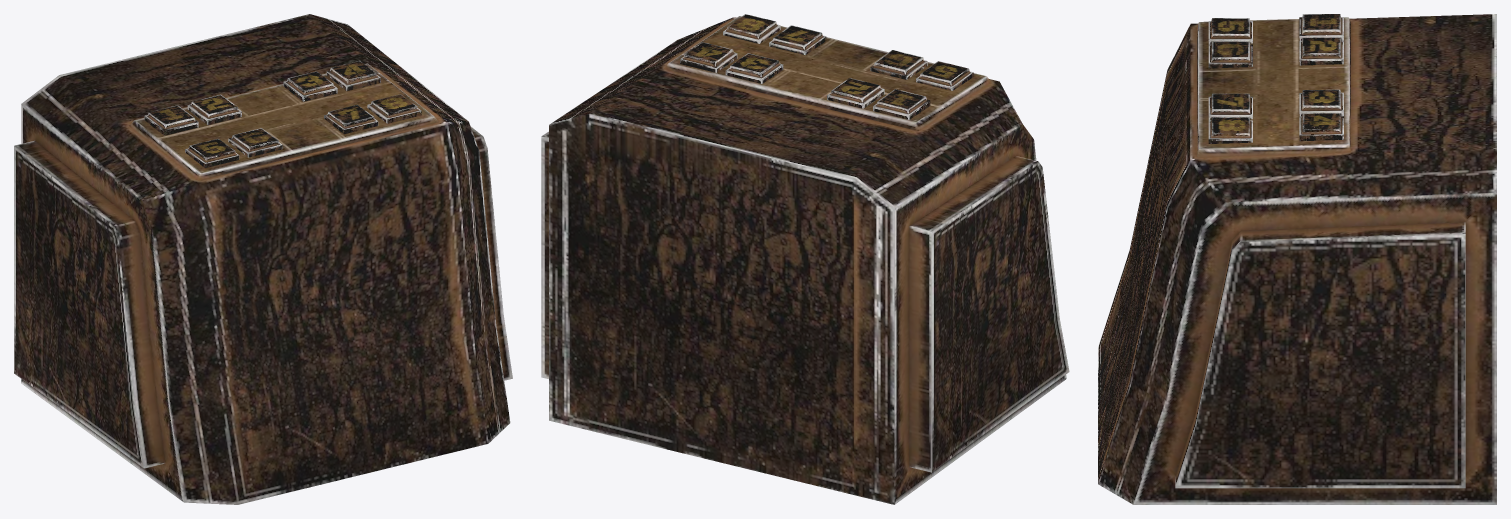
File: bunker_terminal.glb
The picture shows the model from 3 angles, left to right: view 1: azimuth 30°, elevation 25°; view 2: azimuth 150°, elevation 25°; view 3: azimuth 270°, elevation 25°; orthographic projection. The views are drawn at different scales.
Parts seen in each view (by area): view 1: bunker_terminal; view 2: bunker_terminal; view 3: bunker_terminal.
Boxes of the visible parts, box(x1,y1,x2,y2) form: bunker_terminal: box(14, 14, 512, 504); bunker_terminal: box(541, 14, 1069, 504); bunker_terminal: box(1098, 14, 1496, 504).
Bounding box in the file's own units: 1.5 × 1.2 × 1.26.
Materials: 1 (1 with a texture image).
